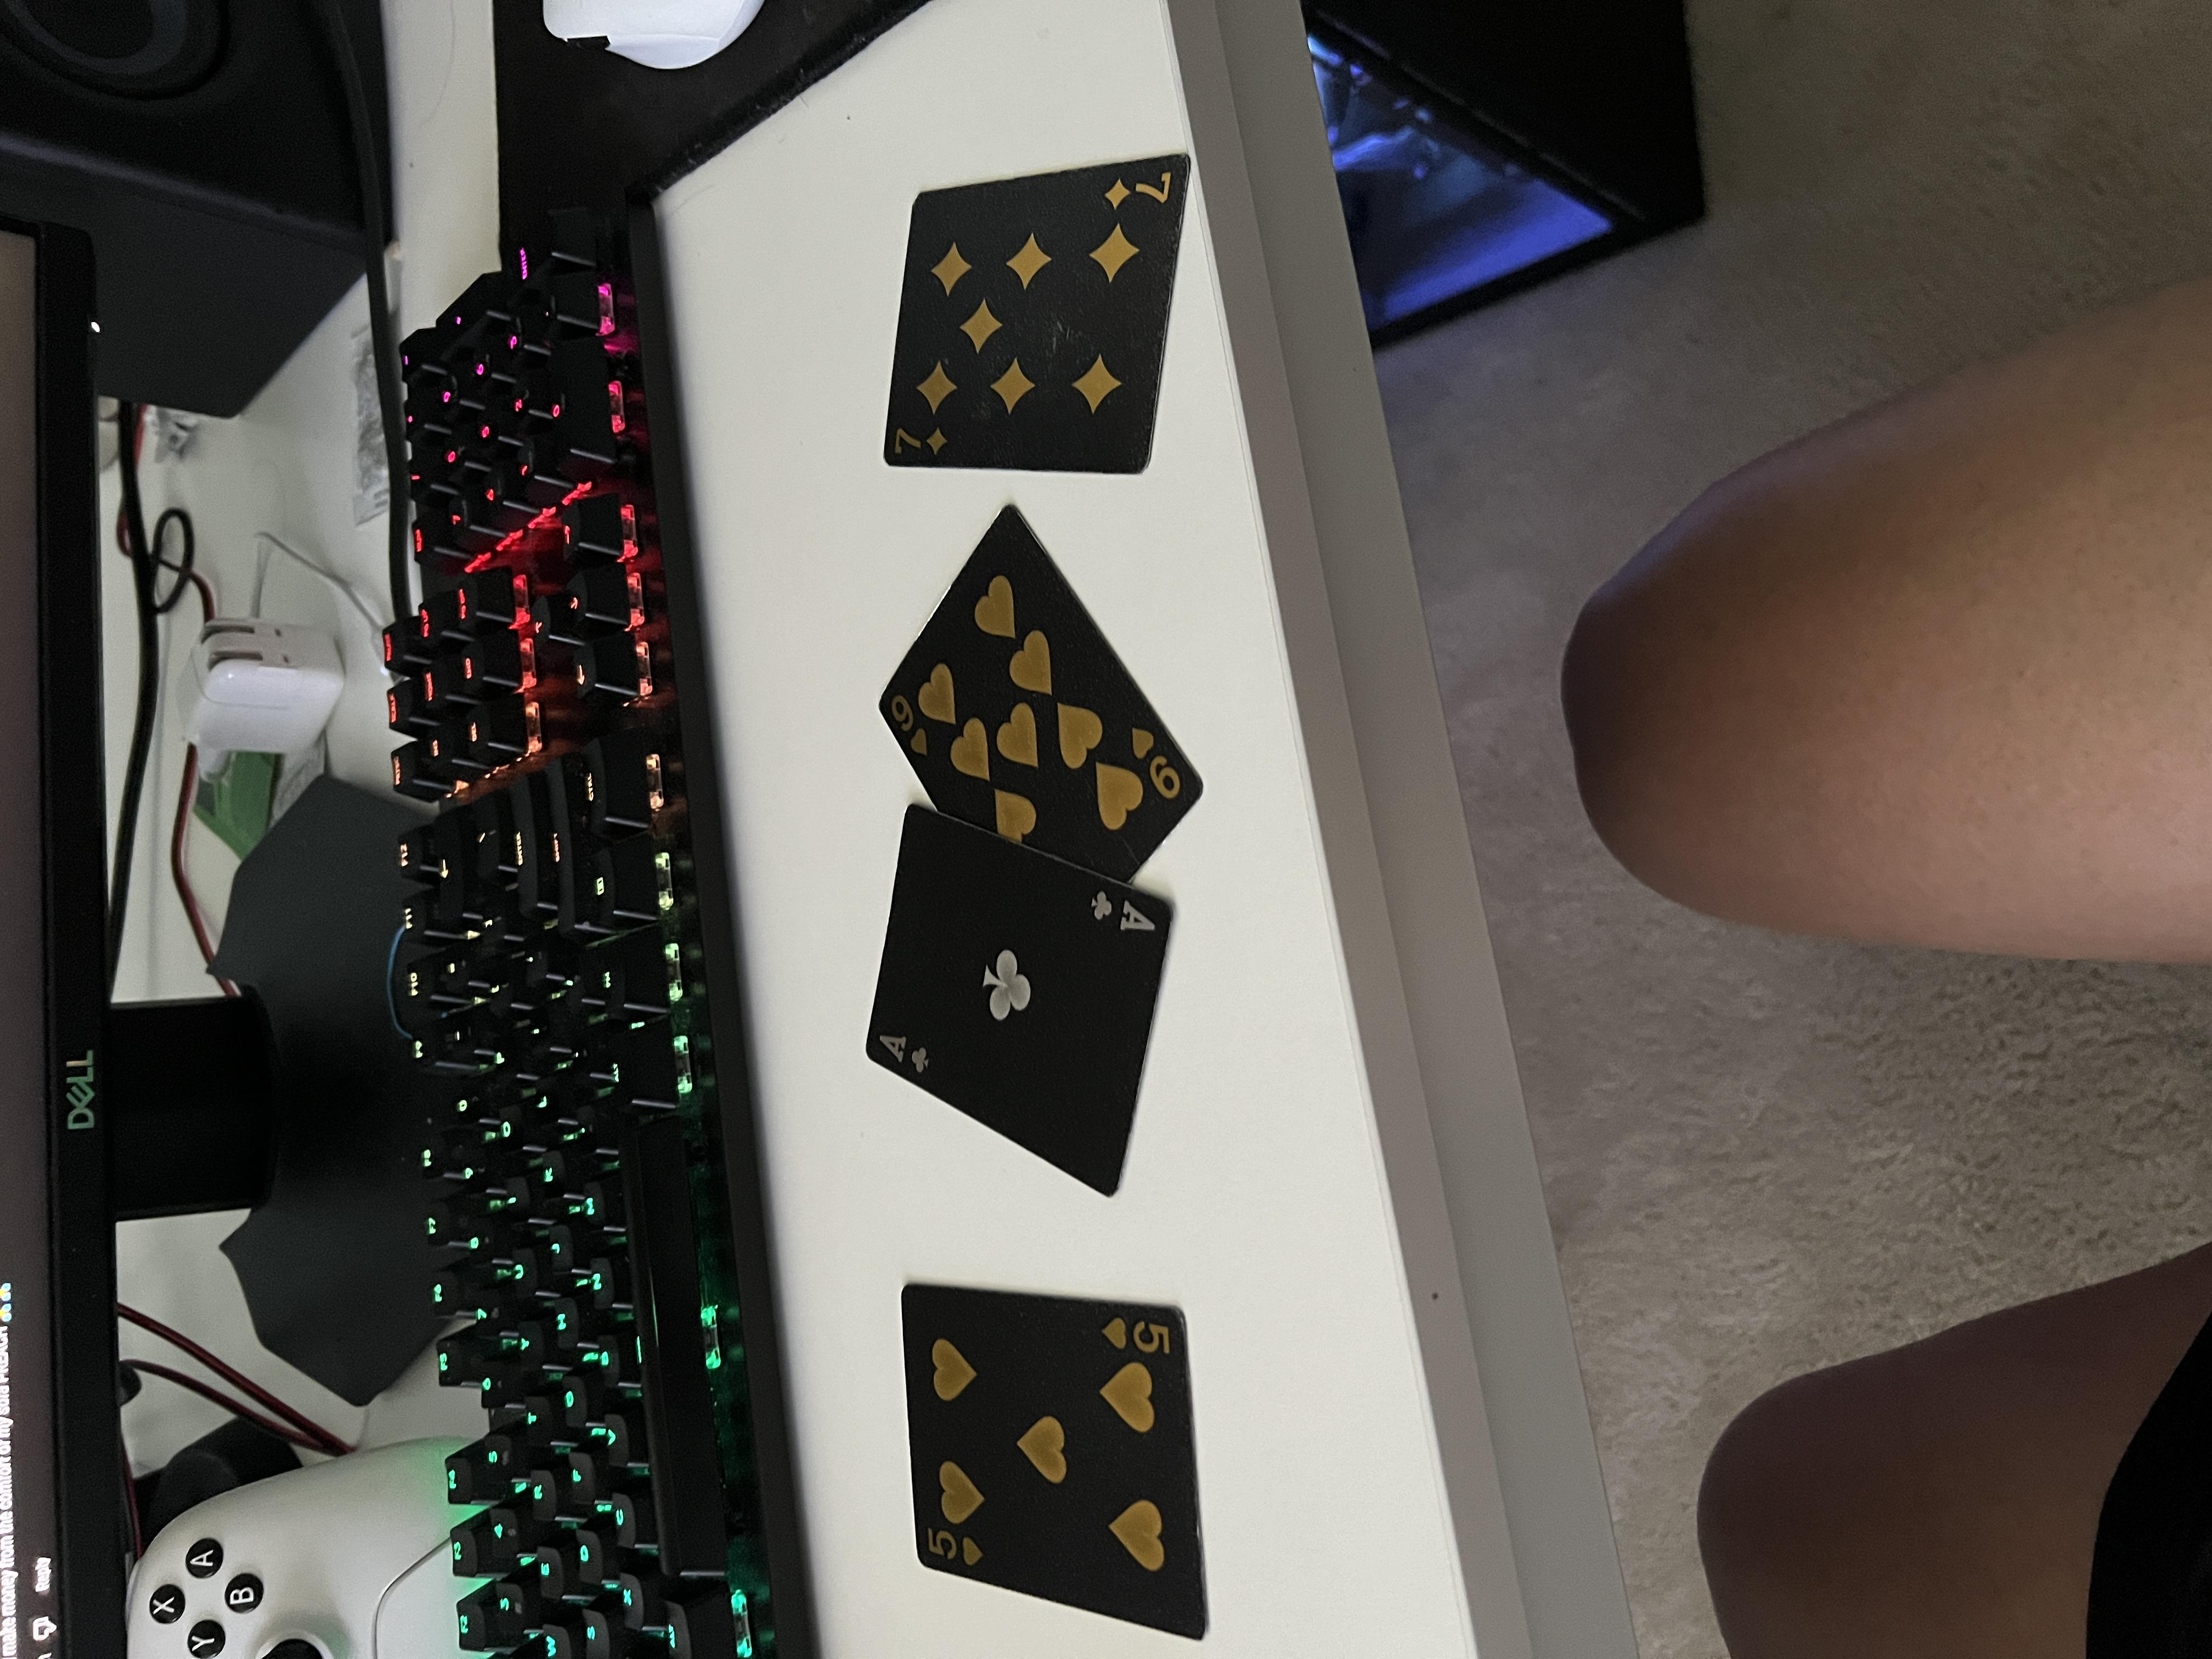5H: (409, 826, 456, 880), (124, 692, 176, 735)
7D: (1928, 826, 1994, 884), (1604, 664, 1651, 714)
9H: (1127, 840, 1251, 894), (1191, 662, 1296, 701)
AC: (956, 812, 1024, 873), (770, 652, 841, 701)
